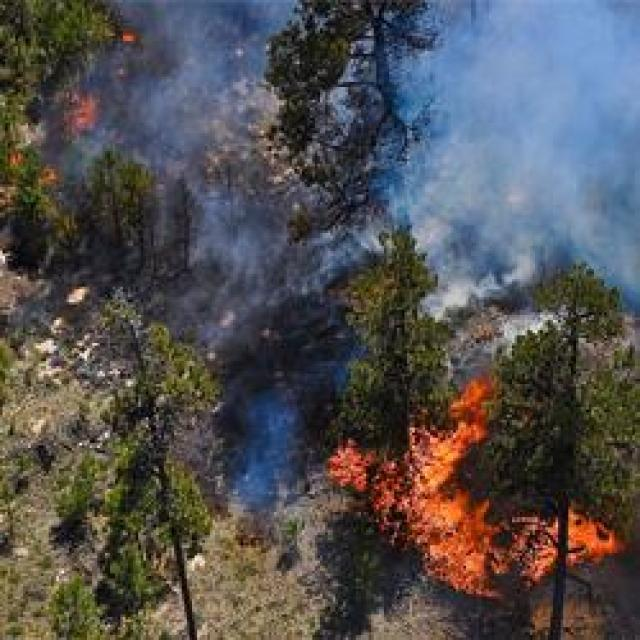Fire: (412, 372, 497, 596), (53, 85, 152, 153), (501, 509, 572, 583), (0, 136, 75, 199), (568, 510, 619, 563), (328, 440, 372, 493), (120, 26, 144, 61), (531, 604, 550, 637)
Smoke: (175, 4, 640, 215), (414, 2, 640, 275), (173, 157, 356, 371), (204, 372, 299, 508)
